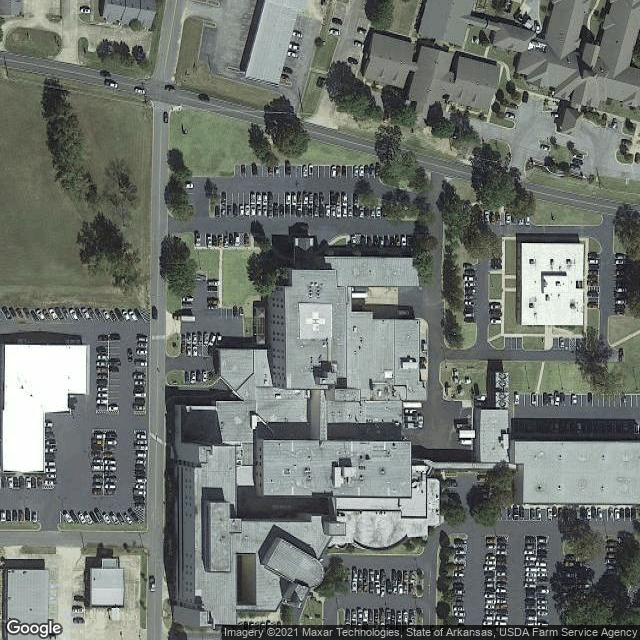Helipad: (301, 307, 330, 336)
